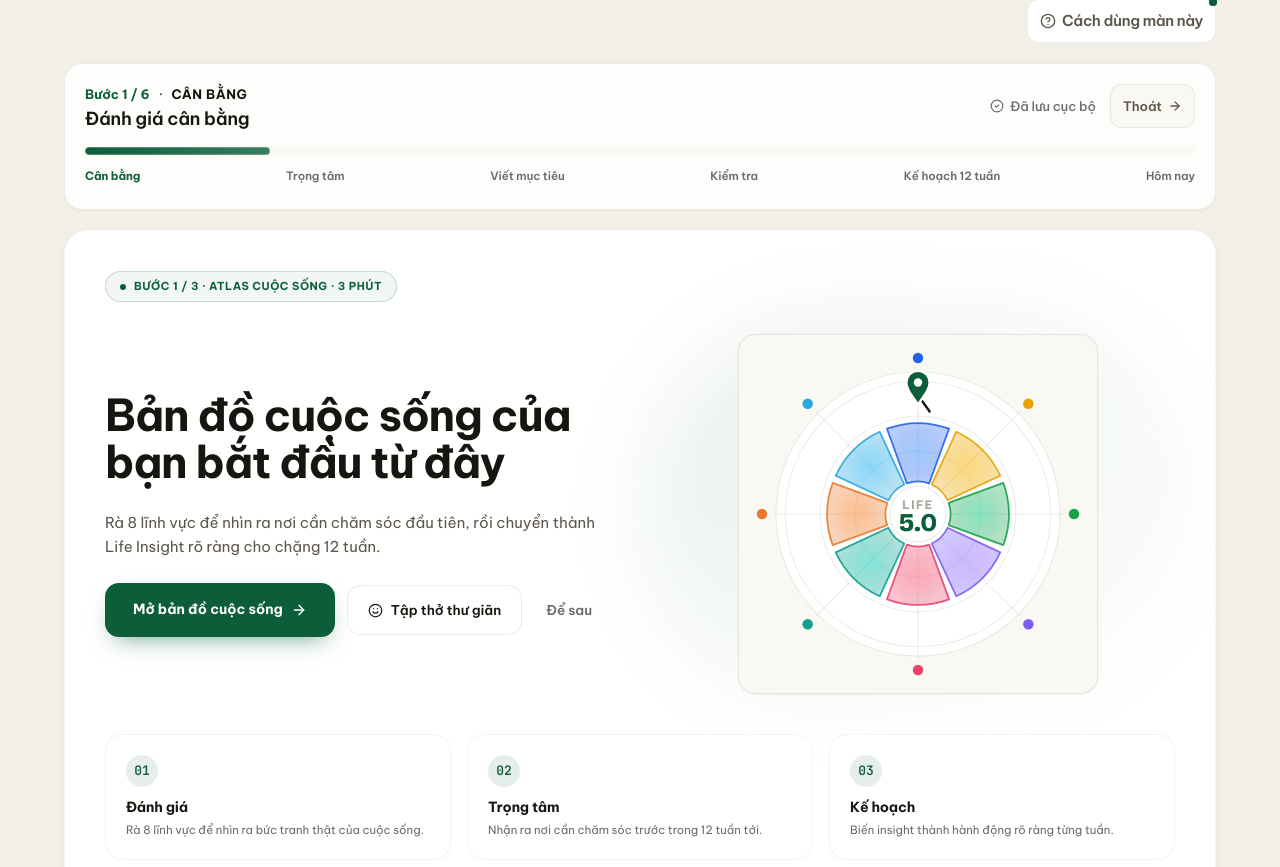
Scenario: Onboarding › shows live assessment summary and reviewed count
Step 1. Click the button "Mở bản đồ cuộc sống" → [220, 610], box [105,583,335,637]
(page scrolled)
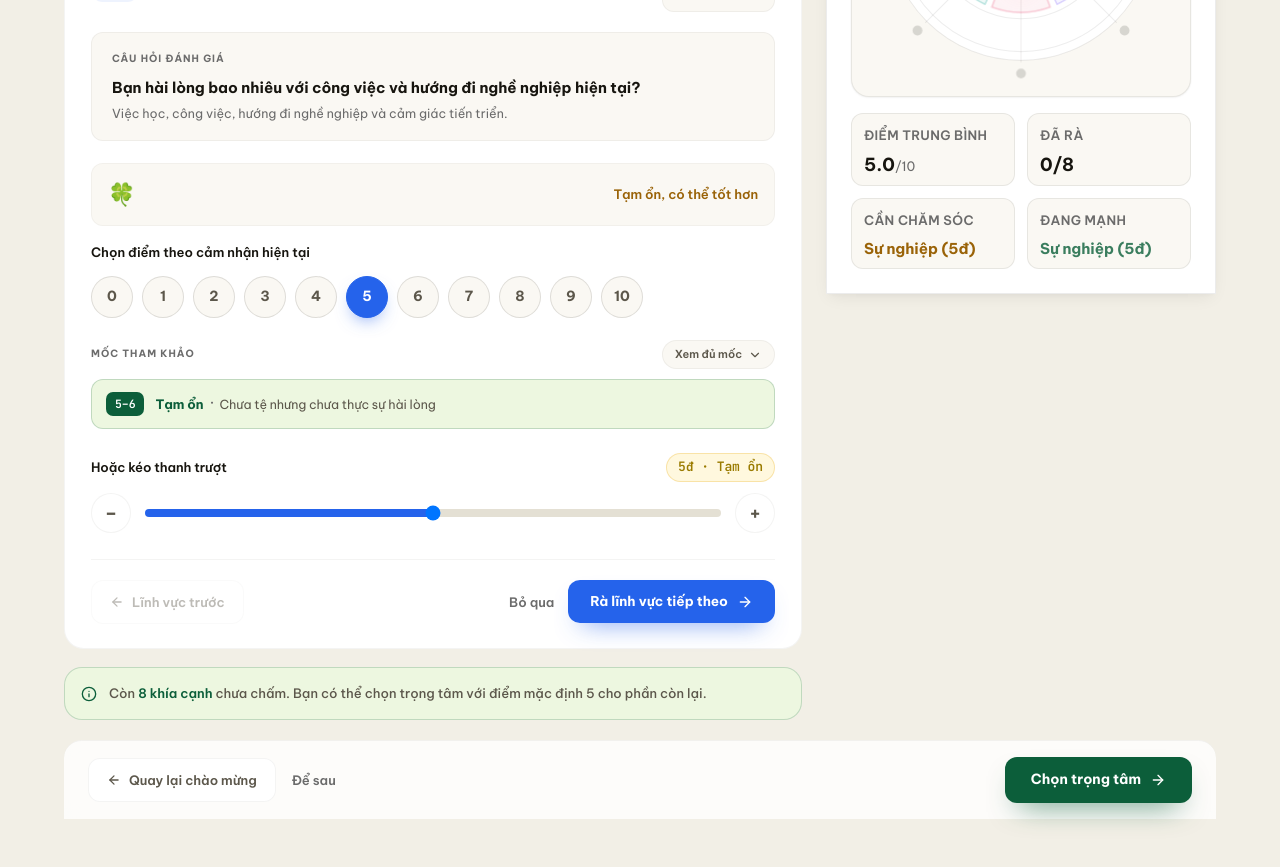
Expected: the message with test id "onboarding-assessment-summary" shows "0/8", [851,113,1191,269]
Step 2. Set the slider to "6" → [489, 513], box [145,509,721,517]
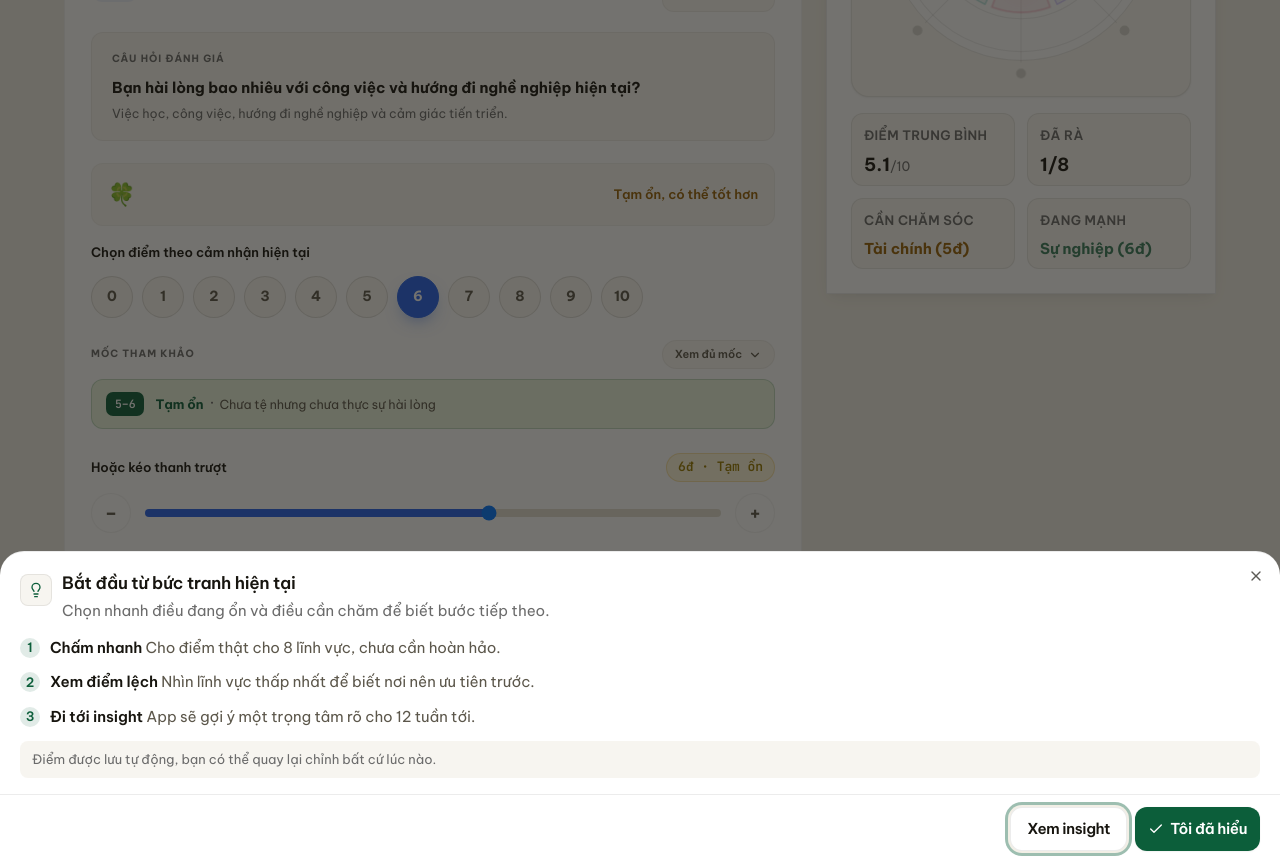
Expected: the message with test id "onboarding-assessment-summary" shows "Điểm trung bình", [864,127,987,143]
Expected: the message with test id "onboarding-assessment-summary" shows "Cần chăm sóc", [864,212,974,228]
Expected: the message with test id "onboarding-assessment-summary" shows "1/8", [851,113,1191,269]
